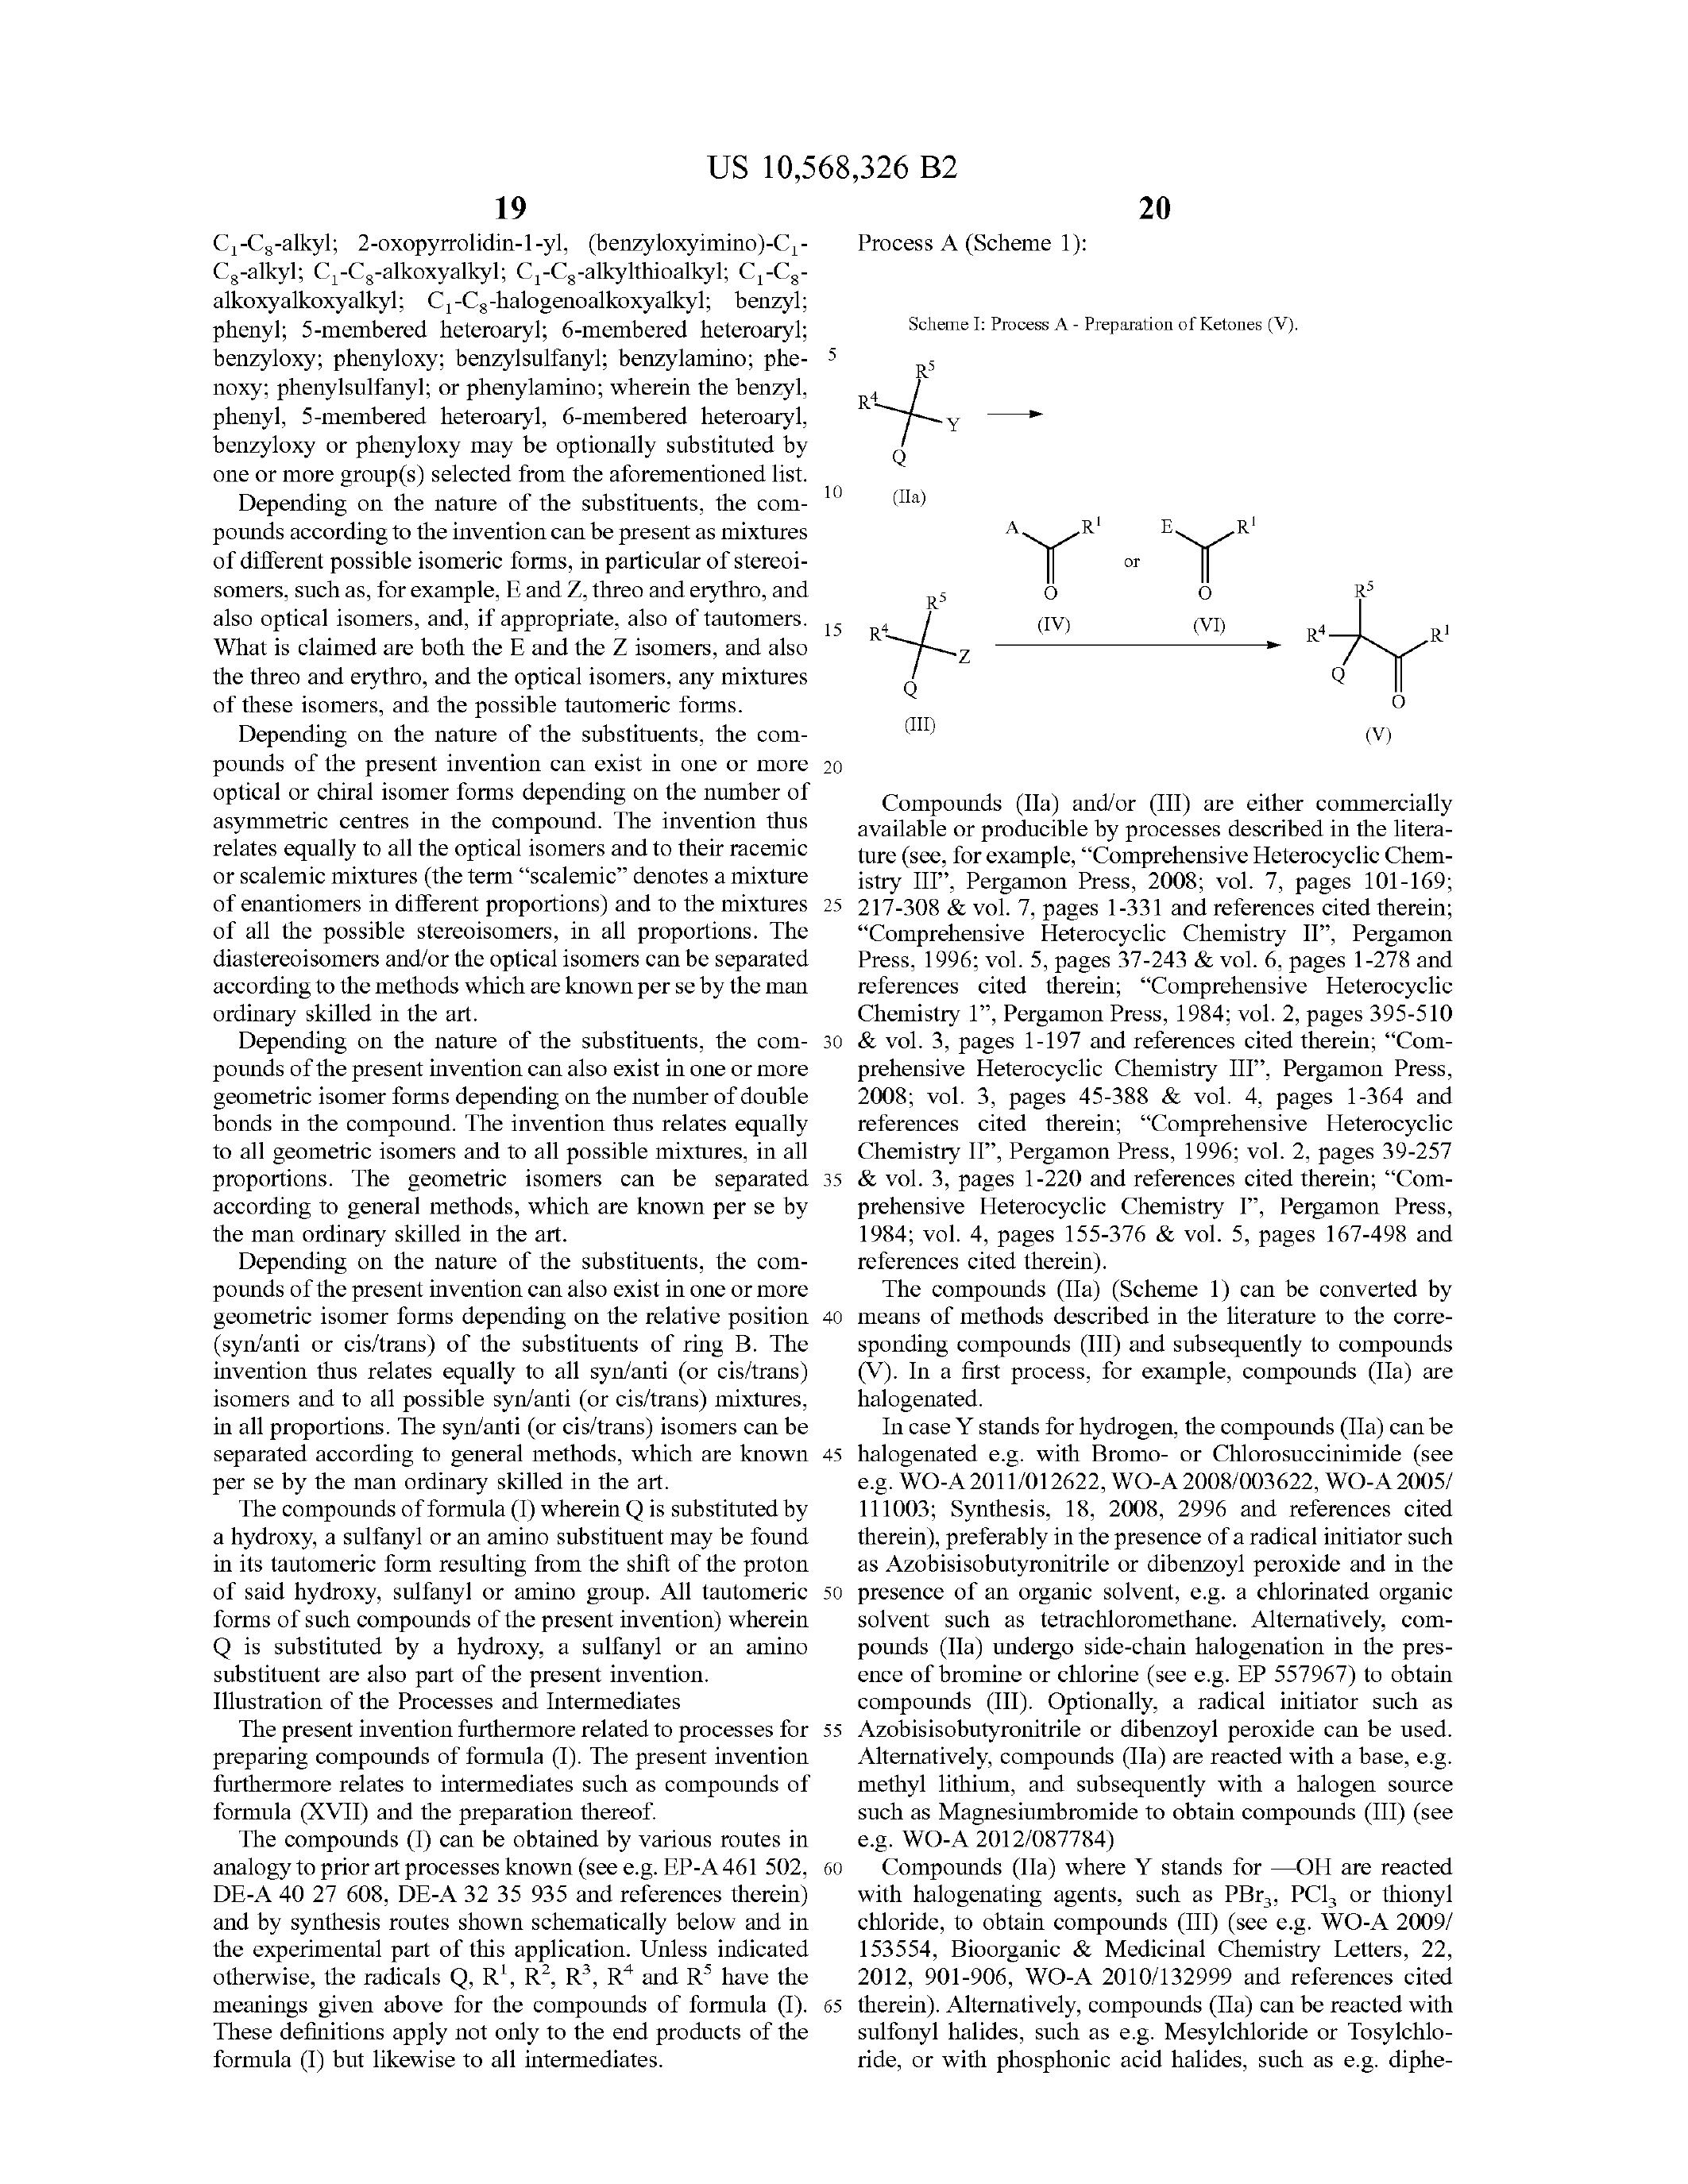reactions: (846, 355, 1482, 746)
